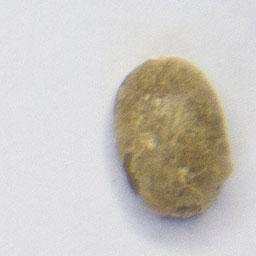premium: (110, 53, 237, 223)
